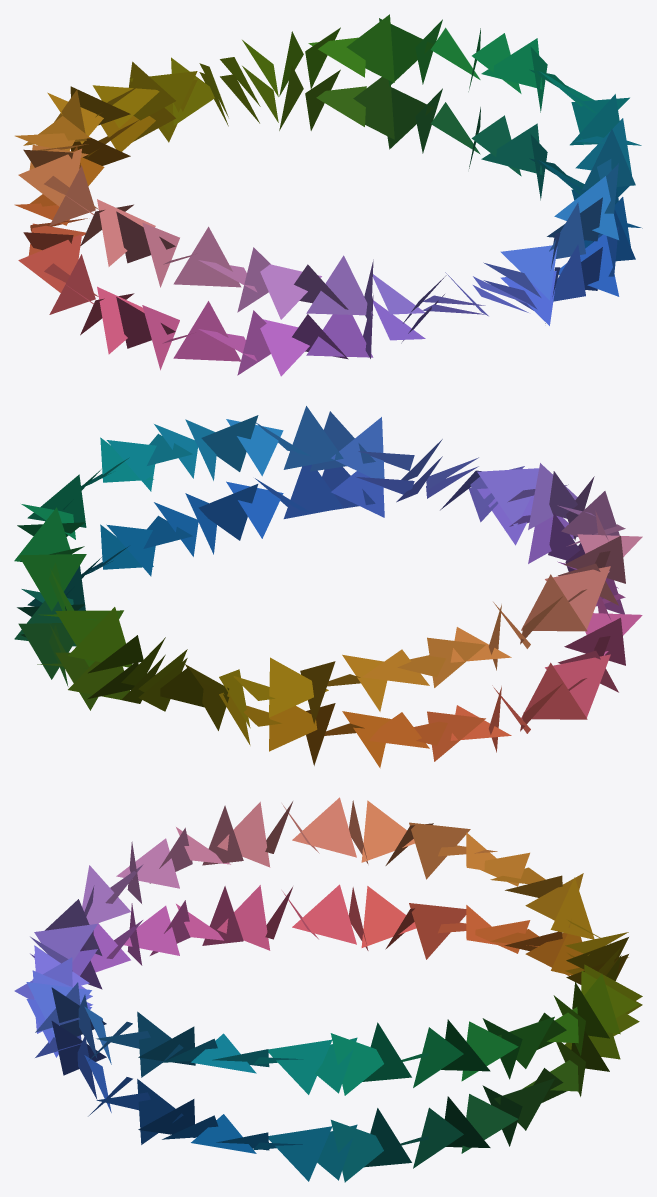
Rendered from Model_Ring128.fbx.
3 renders of one model, top to bottom at view 1: azimuth 30°, elevation 25°; view 2: azimuth 150°, elevation 25°; view 3: azimuth 270°, elevation 25°, orthographic. The views are drawn at different scales.
Parts seen in each view (by area): view 1: Ring; view 2: Ring; view 3: Ring.
Part boxes in pixels (<box>): Ring: <box>14,14,642,376</box>; Ring: <box>14,406,642,768</box>; Ring: <box>14,797,642,1182</box>.
Bounding box in the file's own units: 2.21 × 0.6098 × 2.27.
